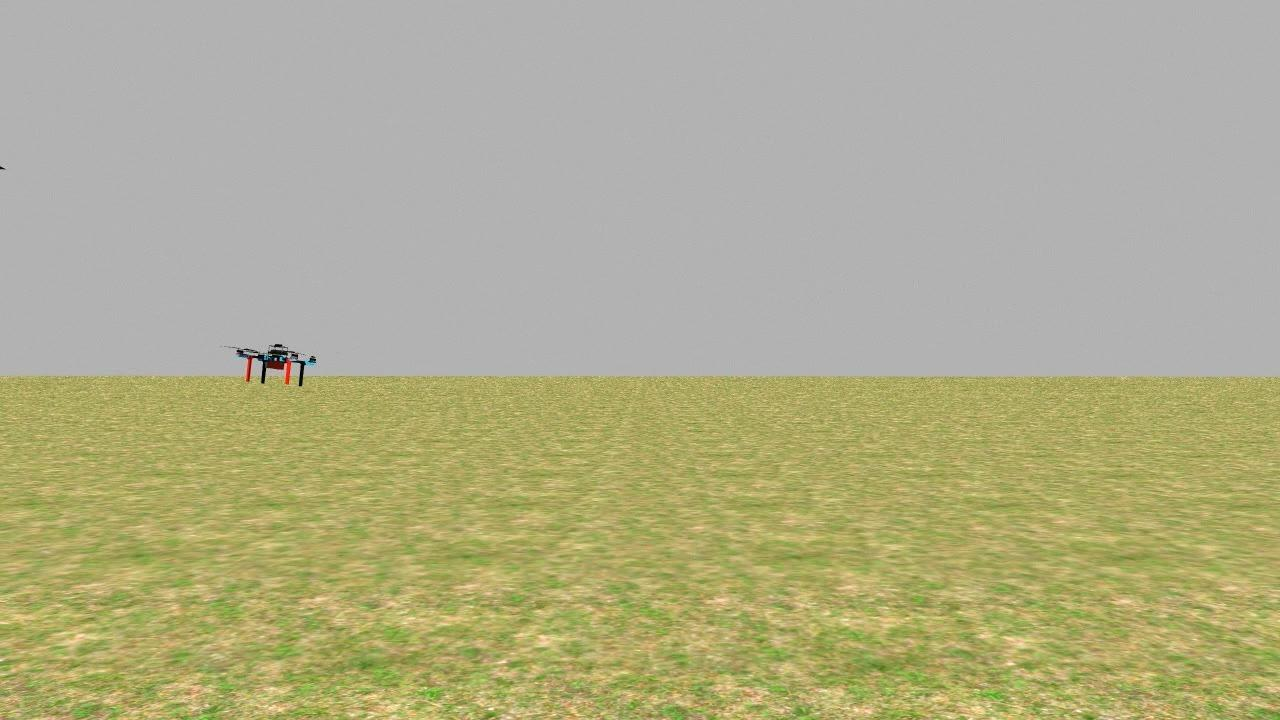UAV: (218, 322, 333, 398)
